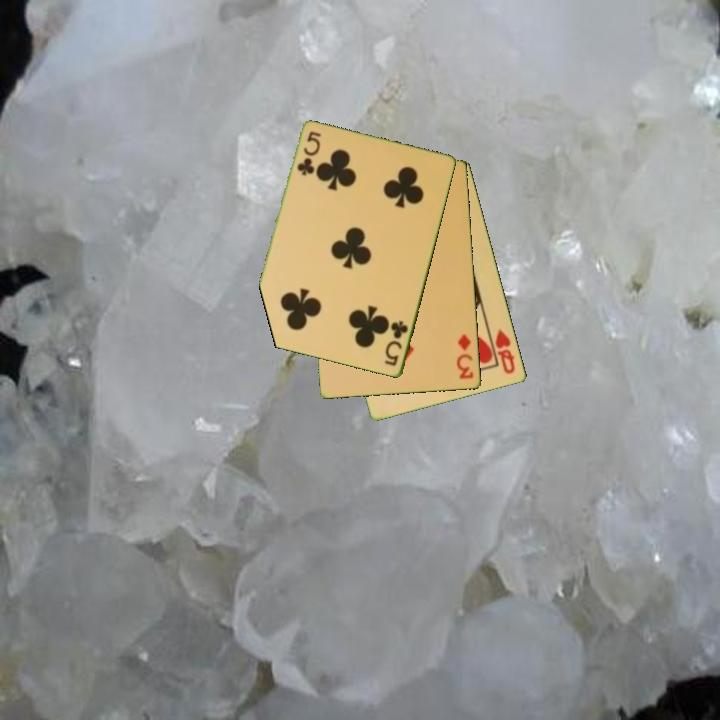3d: (453, 331, 477, 382)
5c: (293, 128, 324, 179), (381, 317, 411, 369)
Qh: (492, 326, 518, 377)
